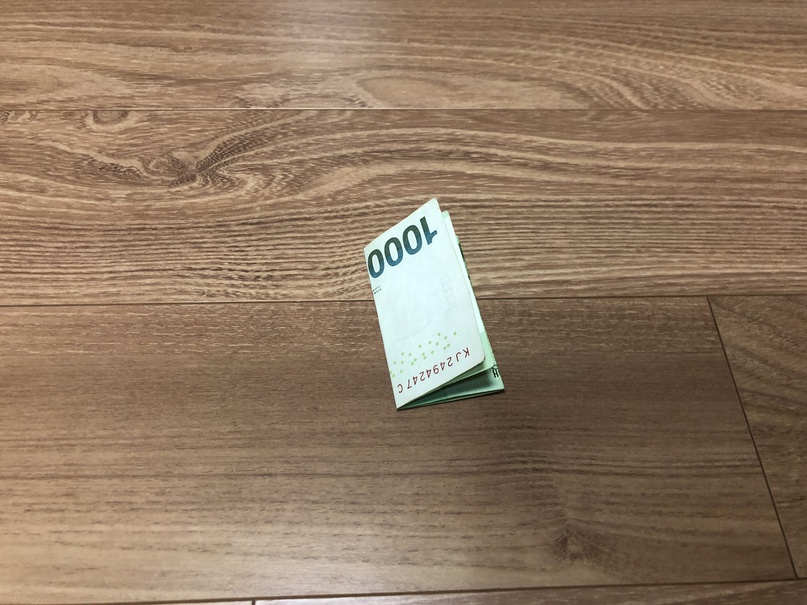10000won: (364, 198, 507, 411)
